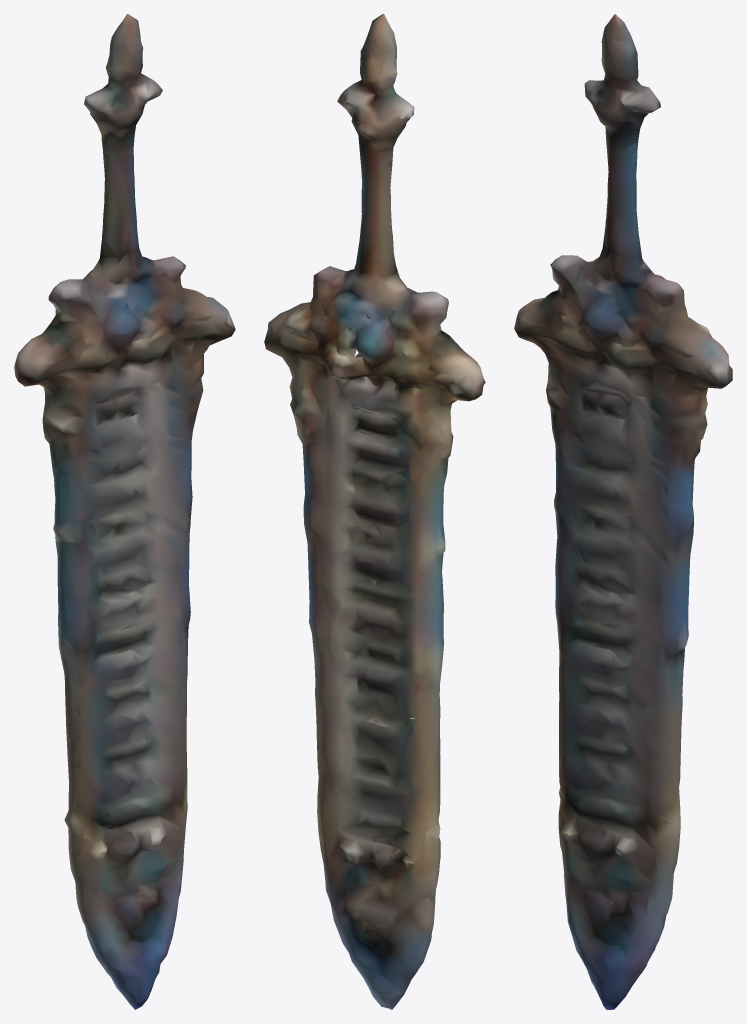
Rendered from espada_akles.glb.
3 renders of one model, left to right at view 1: azimuth 30°, elevation 25°; view 2: azimuth 150°, elevation 25°; view 3: azimuth 330°, elevation 25°, orthographic.
Size of the model in its own units: 0.212 by 0.9401 by 0.0782.
